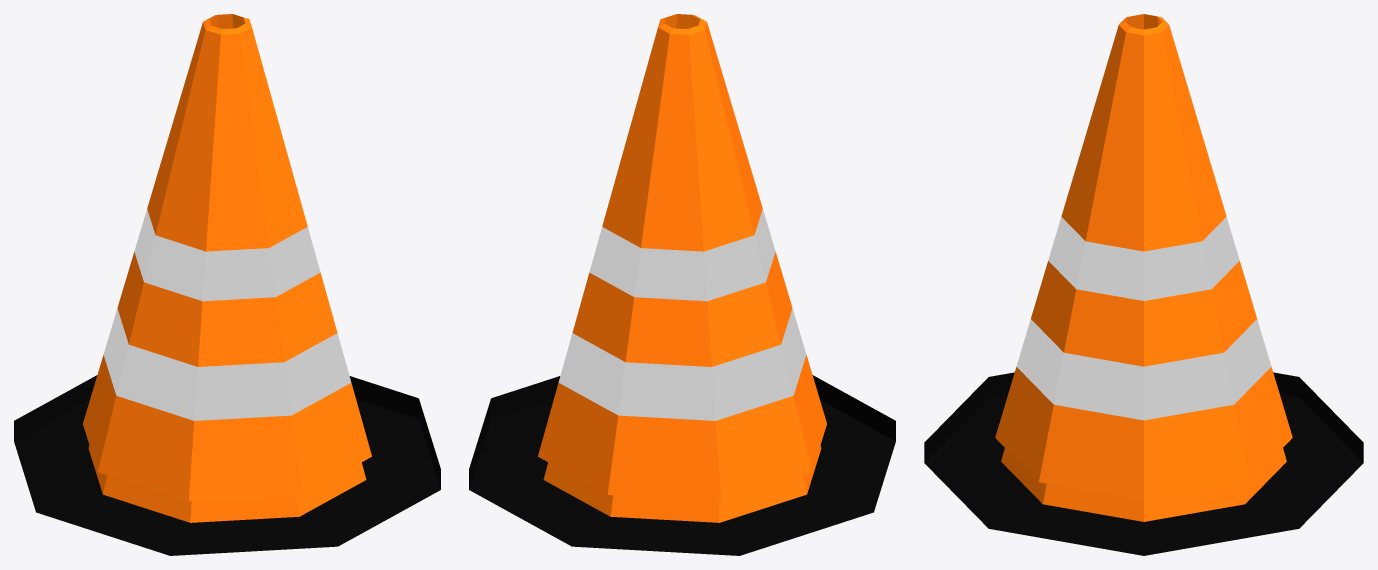
Rendered from TrafficConeNew.glb.
3 views of the same model, side by side, from view 1: azimuth 30°, elevation 25°; view 2: azimuth 150°, elevation 25°; view 3: azimuth 270°, elevation 25° (orthographic).
Parts seen in each view (by area): view 1: Circle; view 2: Circle; view 3: Circle.
Boxes of the visible parts, left/top/right/bottom form: Circle: left=14, top=14, right=440, bottom=555; Circle: left=469, top=14, right=895, bottom=555; Circle: left=924, top=14, right=1363, bottom=555.
Size of what is drawn, in the model's own units: 2 by 2.22 by 2.
